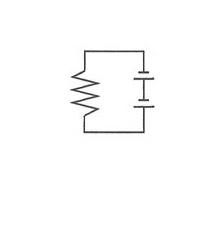resistor: (68, 60, 102, 123)
